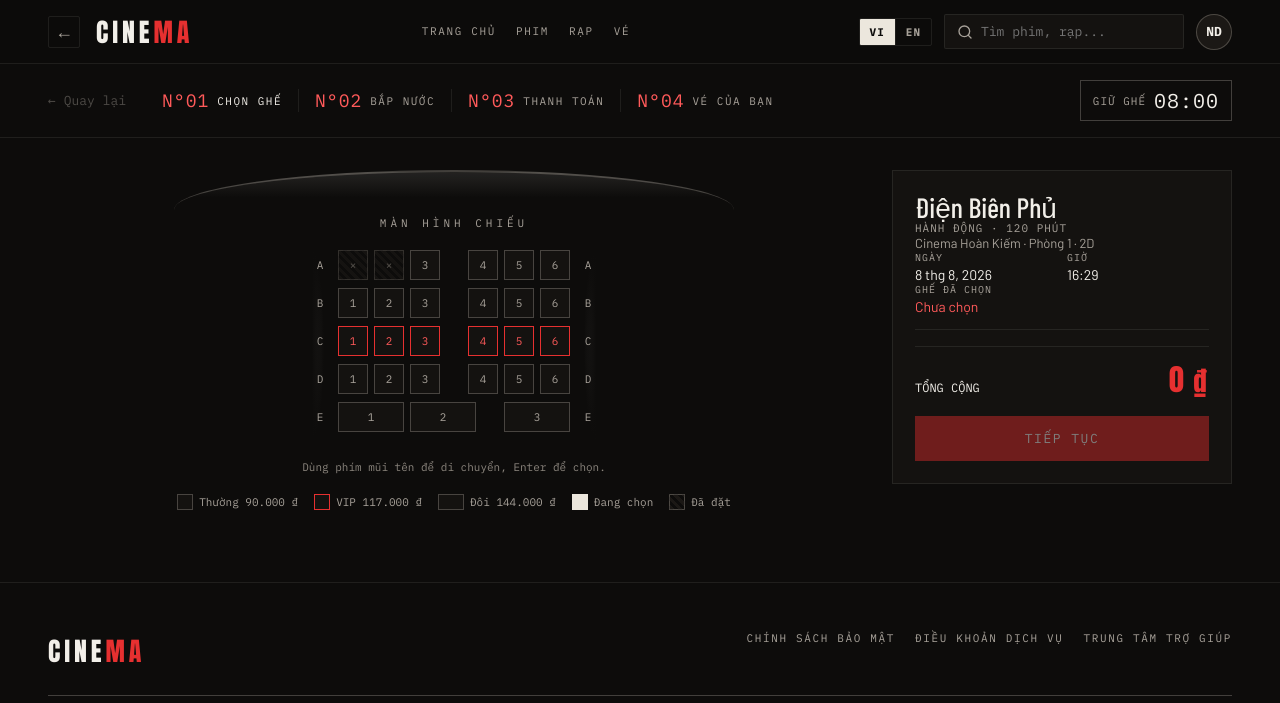
Test: BookingWizard — bước ③ thanh toán › server chưa cấu hình Stripe thì chỉ có phương thức tại quầy
Expected: the heading "Điện Biên Phủ" is shown, [915,190,1057,224]
Click the cell named "Ghế B1,". click: (353, 303)
box: [338,288,368,318]
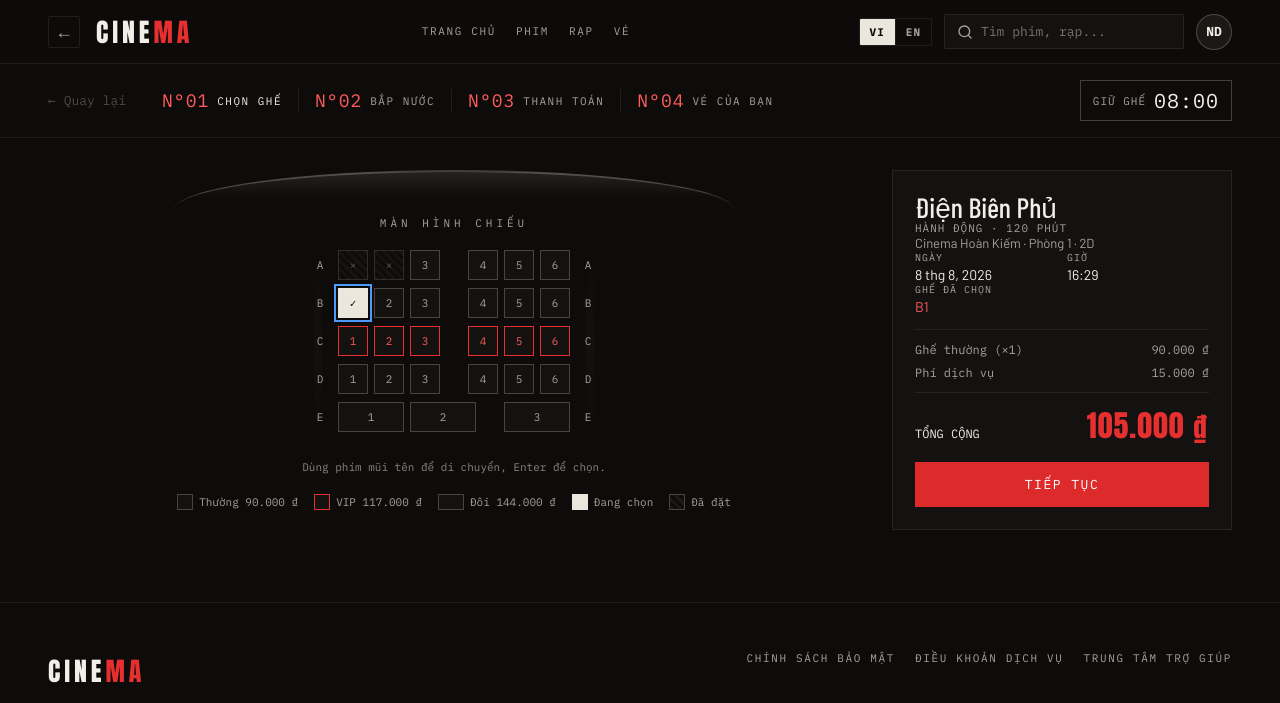
Click the button "Tiếp tục". click: (1062, 484)
box: [915,462,1209,507]
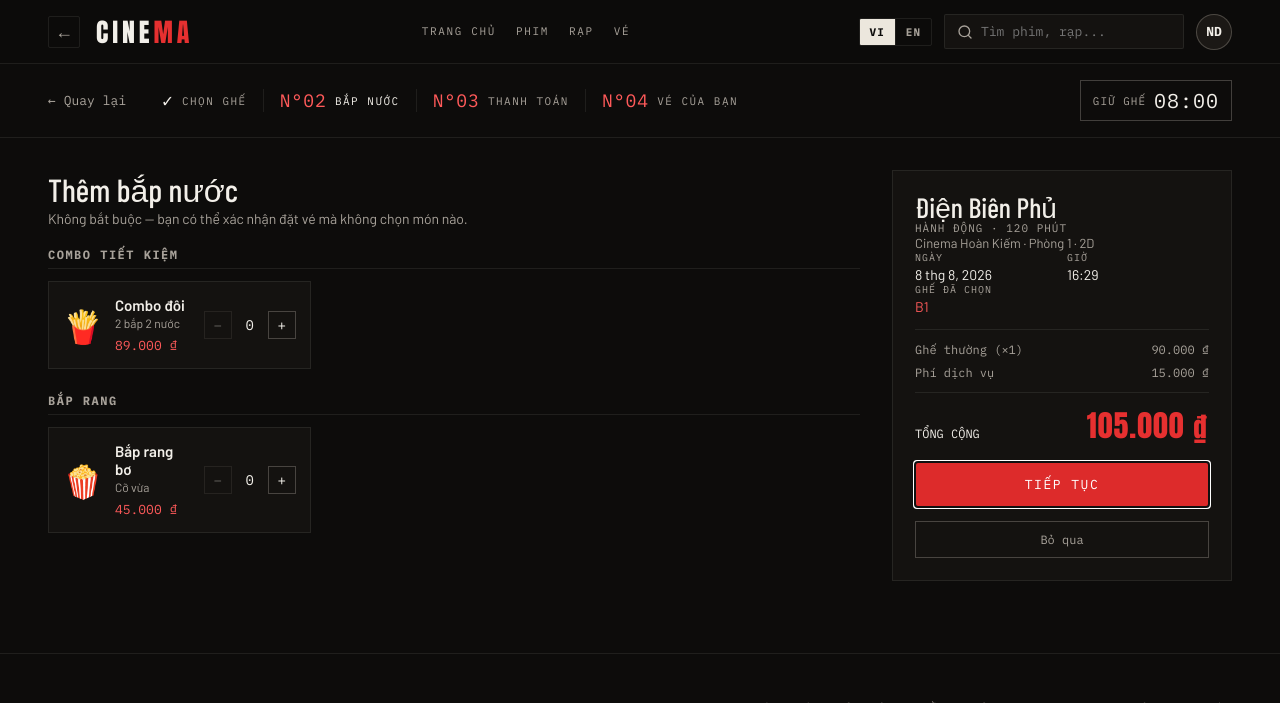
Click the button "Bỏ qua". click: (1062, 540)
box: [915,521,1209,558]
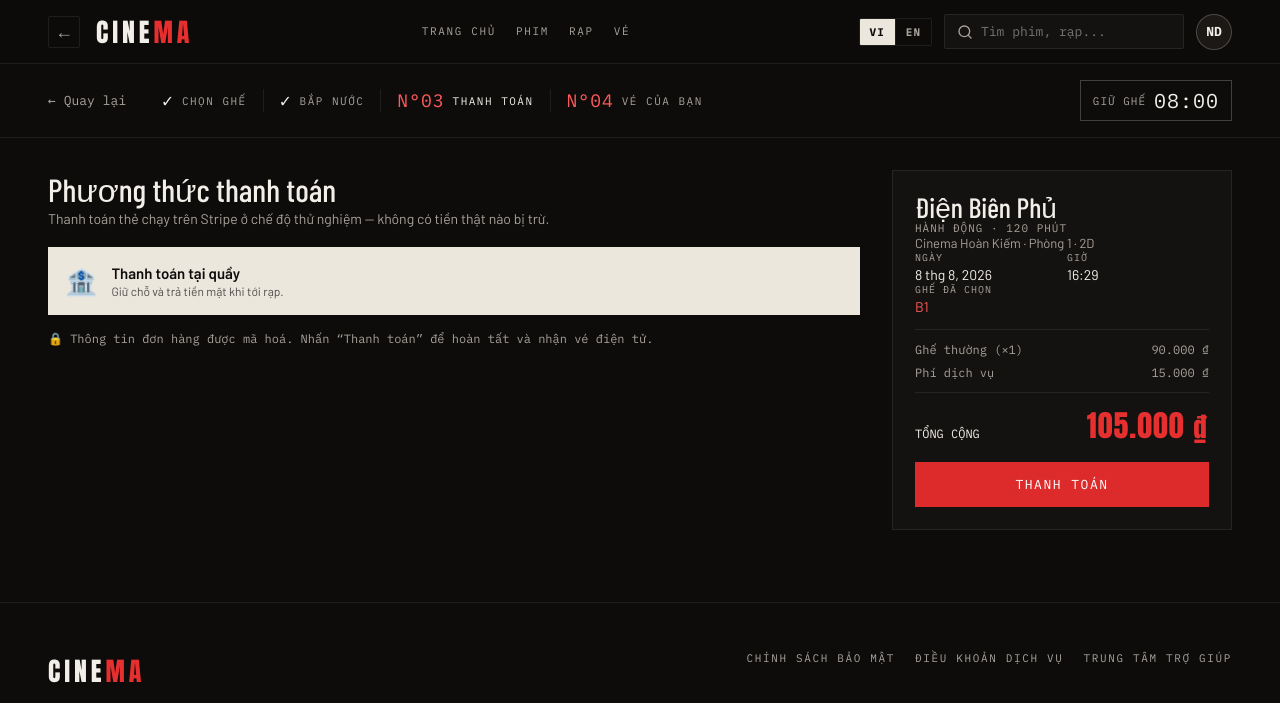
Expected: the heading "Phương thức thanh toán" is shown, [48,170,336,208]
Expected: the text "Thanh toán tại quầy" is shown, [111,264,240,282]
Expected: the radio button is checked, [48,247,860,315]
